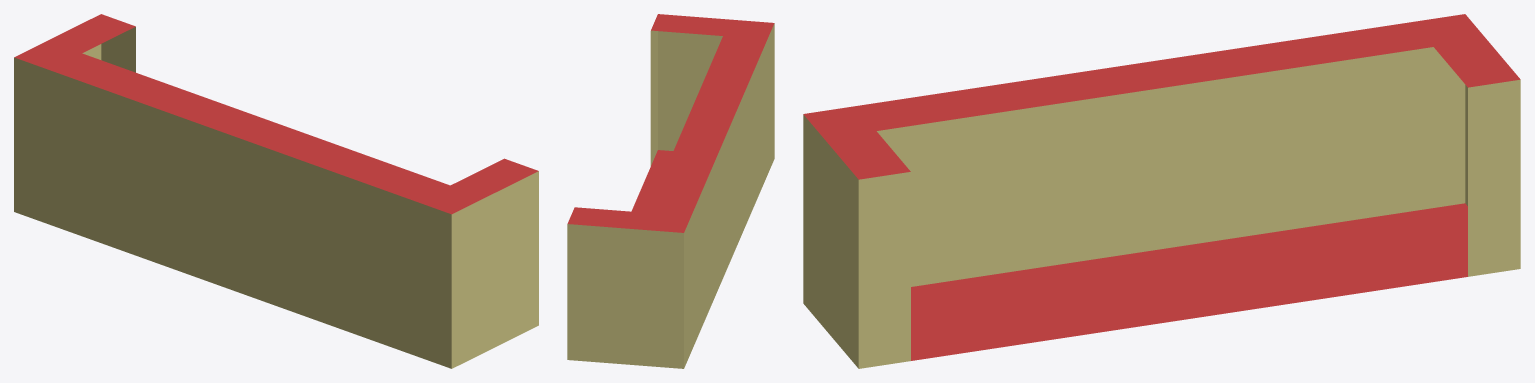
The picture shows the model from 3 angles, left to right: view 1: azimuth 30°, elevation 25°; view 2: azimuth 150°, elevation 25°; view 3: azimuth 270°, elevation 25°; orthographic projection. The views are drawn at different scales.
Bounding box in the file's own units: 16.48 × 30.15 × 8.78.
